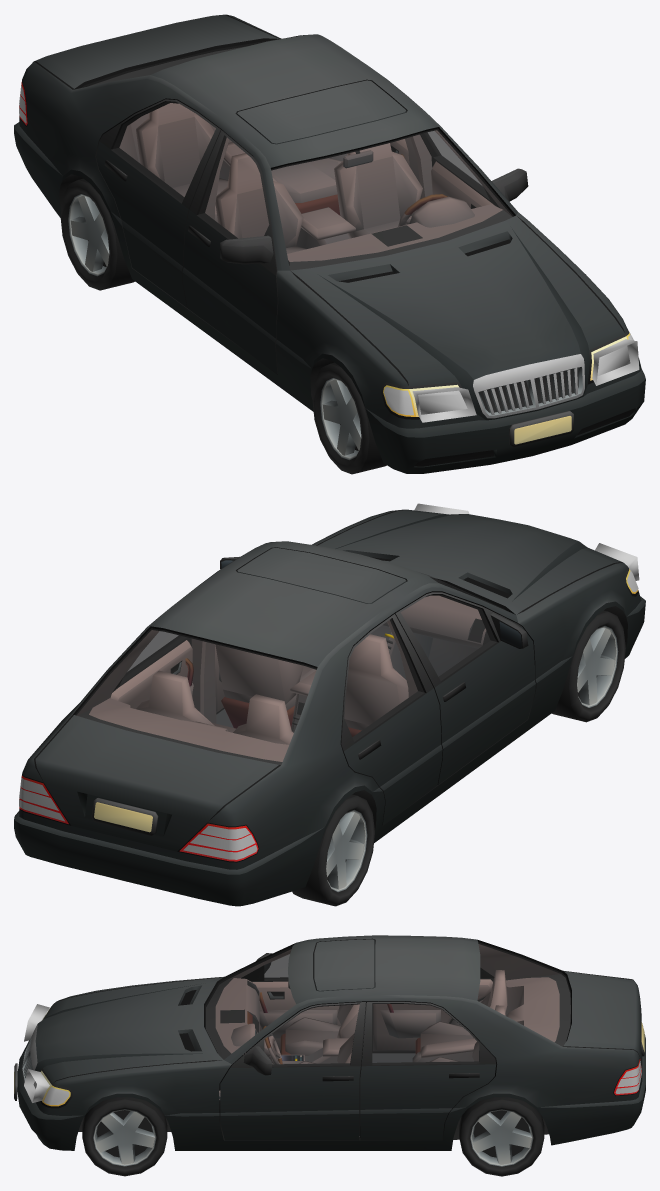
Rendered from TSP_Sedan_01A.fbx.
The picture shows the model from 3 angles, top to bottom: view 1: azimuth 30°, elevation 25°; view 2: azimuth 150°, elevation 25°; view 3: azimuth 270°, elevation 25°; orthographic projection. The views are drawn at different scales.
Visible parts, largest first — view 1: TSP_Sedan_01A_Body, TSP_Sedan_01A_Door_F.R, TSP_Sedan_01A_Door_R.R, TSP_Sedan_01A_Sun_Roof, TSP_Sedan_01A_Wheel_R.R, TSP_Sedan_01A_Wheel_F.R, TSP_Sedan_01A_Headlights, TSP_Sedan_01A_Door_F.L, TSP_Sedan_01A_Blinkers.R; view 2: TSP_Sedan_01A_Body, TSP_Sedan_01A_Door_F.R, TSP_Sedan_01A_Door_R.R, TSP_Sedan_01A_Wheel_R.R, TSP_Sedan_01A_Wheel_F.R, TSP_Sedan_01A_Sun_Roof, TSP_Sedan_01A_Door_R.L, TSP_Sedan_01A_Taillights, TSP_Sedan_01A_Headlights, TSP_Sedan_01A_Blinkers.R; view 3: TSP_Sedan_01A_Body, TSP_Sedan_01A_Door_F.L, TSP_Sedan_01A_Door_R.L, TSP_Sedan_01A_Wheel_R.L, TSP_Sedan_01A_Wheel_F.L, TSP_Sedan_01A_Door_R.R, TSP_Sedan_01A_Sun_Roof, TSP_Sedan_01A_Door_F.R, TSP_Sedan_01A_Headlights, TSP_Sedan_01A_Blinkers.L, TSP_Sedan_01A_Steering_Wheel.
Part boxes in pixels (bbox=[...]): TSP_Sedan_01A_Body: bbox=[14, 14, 645, 473]; TSP_Sedan_01A_Door_F.R: bbox=[182, 130, 278, 373]; TSP_Sedan_01A_Door_R.R: bbox=[96, 99, 221, 307]; TSP_Sedan_01A_Sun_Roof: bbox=[237, 80, 406, 144]; TSP_Sedan_01A_Wheel_R.R: bbox=[60, 178, 134, 290]; TSP_Sedan_01A_Wheel_F.R: bbox=[312, 362, 386, 474]; TSP_Sedan_01A_Headlights: bbox=[412, 339, 639, 422]; TSP_Sedan_01A_Door_F.L: bbox=[420, 131, 528, 208]; TSP_Sedan_01A_Blinkers.R: bbox=[19, 93, 413, 415]; TSP_Sedan_01A_Body: bbox=[14, 509, 645, 906]; TSP_Sedan_01A_Door_F.R: bbox=[395, 592, 535, 784]; TSP_Sedan_01A_Door_R.R: bbox=[340, 614, 442, 825]; TSP_Sedan_01A_Wheel_R.R: bbox=[292, 794, 374, 906]; TSP_Sedan_01A_Wheel_F.R: bbox=[552, 610, 625, 722]; TSP_Sedan_01A_Sun_Roof: bbox=[237, 548, 406, 603]; TSP_Sedan_01A_Door_R.L: bbox=[110, 631, 193, 708]; TSP_Sedan_01A_Taillights: bbox=[19, 775, 257, 859]; TSP_Sedan_01A_Headlights: bbox=[414, 503, 639, 580]; TSP_Sedan_01A_Blinkers.R: bbox=[190, 567, 638, 850]; TSP_Sedan_01A_Body: bbox=[14, 935, 645, 1150]; TSP_Sedan_01A_Door_F.L: bbox=[219, 1002, 365, 1140]; TSP_Sedan_01A_Door_R.L: bbox=[360, 1001, 496, 1140]; TSP_Sedan_01A_Wheel_R.L: bbox=[459, 1097, 544, 1176]; TSP_Sedan_01A_Wheel_F.L: bbox=[82, 1097, 167, 1176]; TSP_Sedan_01A_Door_R.R: bbox=[372, 968, 494, 1052]; TSP_Sedan_01A_Sun_Roof: bbox=[313, 939, 375, 991]; TSP_Sedan_01A_Door_F.R: bbox=[241, 953, 340, 1052]; TSP_Sedan_01A_Headlights: bbox=[24, 1004, 49, 1102]; TSP_Sedan_01A_Blinkers.L: bbox=[43, 1065, 641, 1104]; TSP_Sedan_01A_Steering_Wheel: bbox=[263, 1026, 282, 1064].
Bounding box in the file's own units: 2.74 × 1.91 × 6.55.
